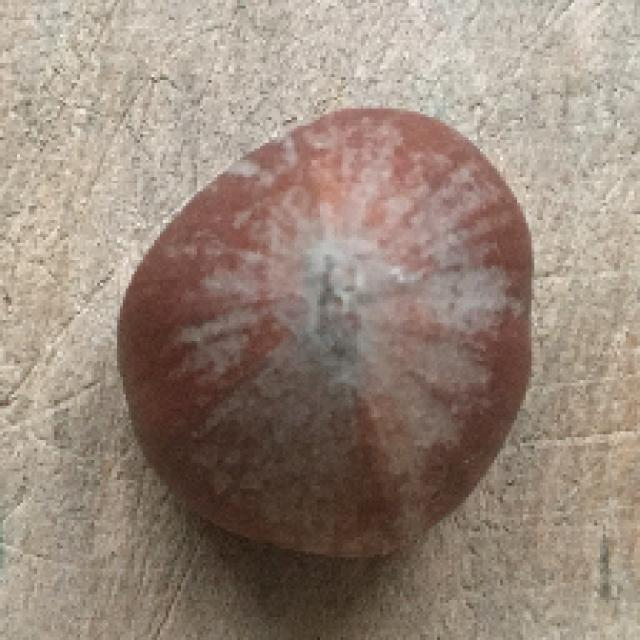qualityHazelnut: (116, 103, 532, 557)
